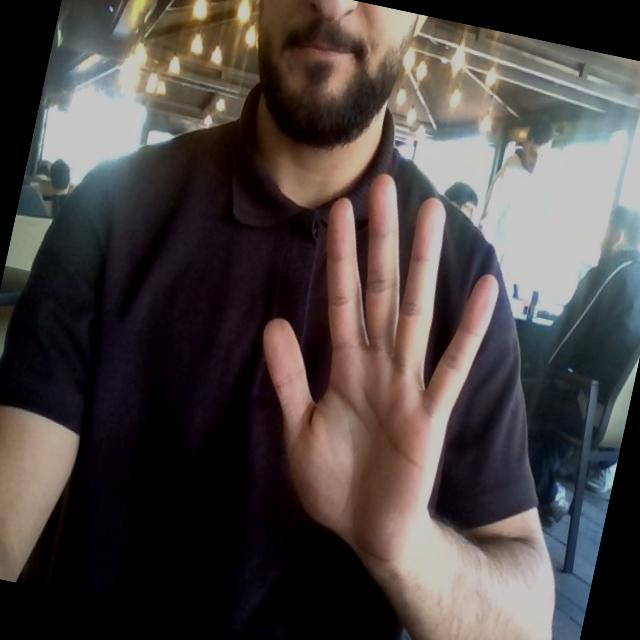Hand: (263, 176, 497, 565)
